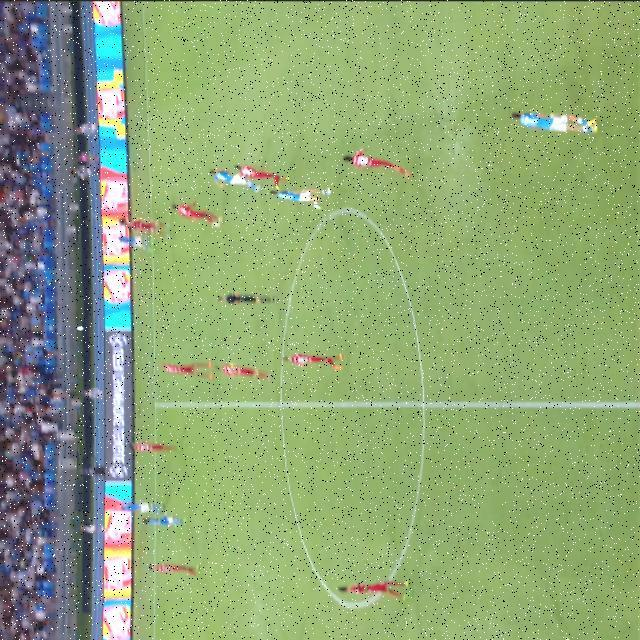player: (492, 110, 608, 138), (269, 179, 342, 211), (342, 150, 421, 179), (152, 198, 223, 227), (328, 577, 409, 598), (208, 359, 271, 380), (211, 163, 261, 189), (109, 232, 170, 251), (146, 558, 204, 577), (241, 159, 291, 181), (287, 353, 348, 369), (134, 437, 182, 455), (152, 362, 210, 376), (109, 219, 165, 233), (136, 514, 186, 525), (124, 501, 168, 512)
referee: (212, 288, 275, 309)
